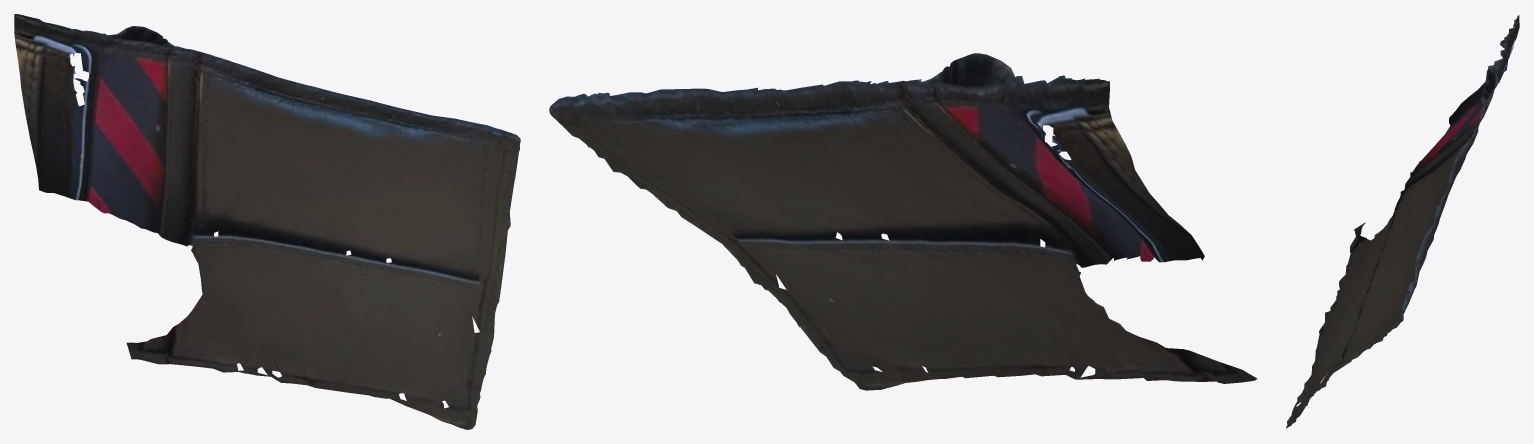
Rendered from observed-surface.glb.
3 renders of one model, left to right at view 1: azimuth 30°, elevation 25°; view 2: azimuth 150°, elevation 25°; view 3: azimuth 270°, elevation 25°, orthographic. The views are drawn at different scales.
Visible parts, largest first — view 1: geometry_0; view 2: geometry_0; view 3: geometry_0.
Boxes of the visible parts, <box> form: geometry_0: <box>14,14,520,429</box>; geometry_0: <box>549,53,1257,390</box>; geometry_0: <box>1286,15,1519,428</box>.
Bounding box in the file's own units: 0.6274 × 0.5083 × 0.361.
Materials: 1 (1 with a texture image).
